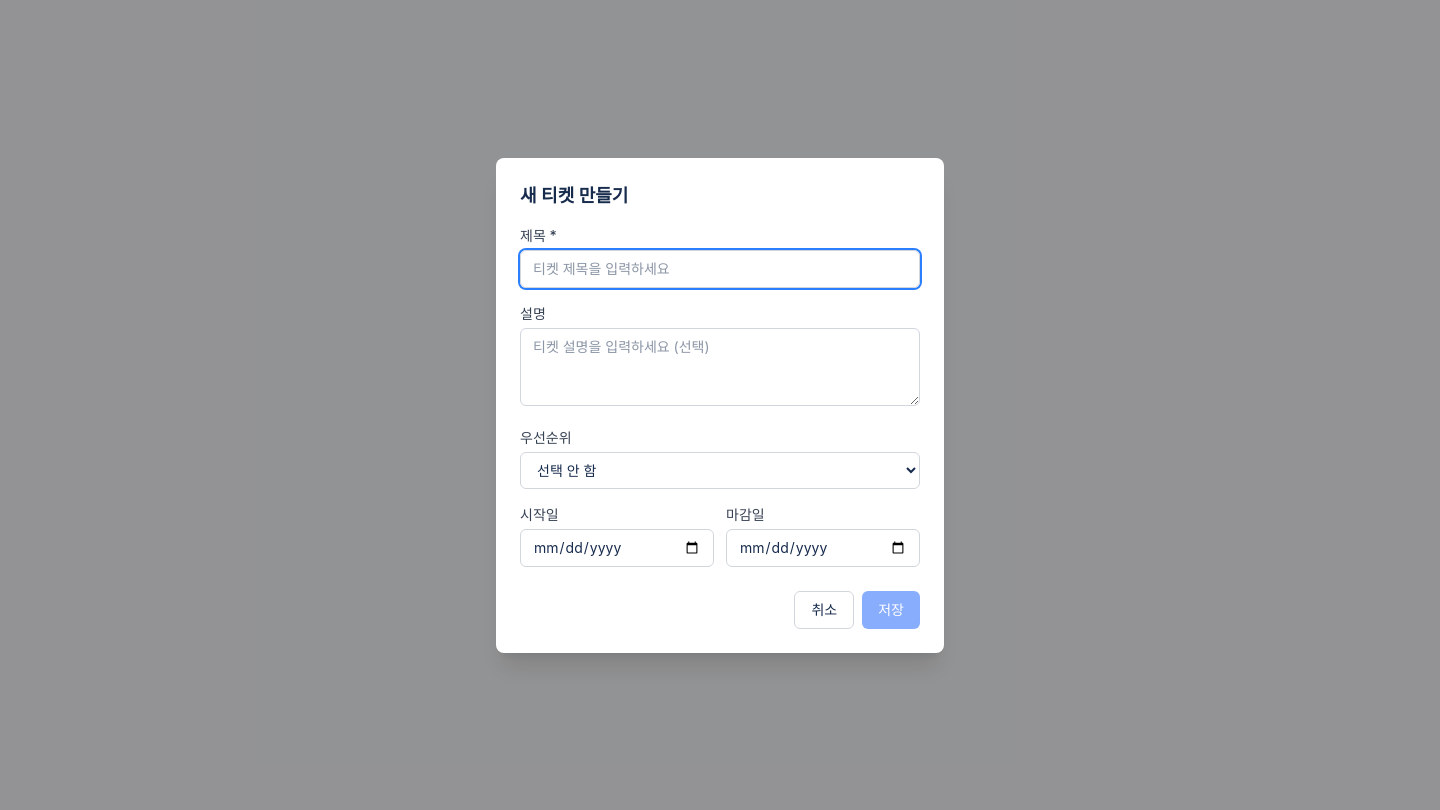
Scenario: CreateModal › TC-COMP-043: API 실패 → 에러 메시지 표시, 모달 유지
Step 1. Type "실패 테스트" into the field labelled "제목 *" → (720, 268), box [520,250,920,288]
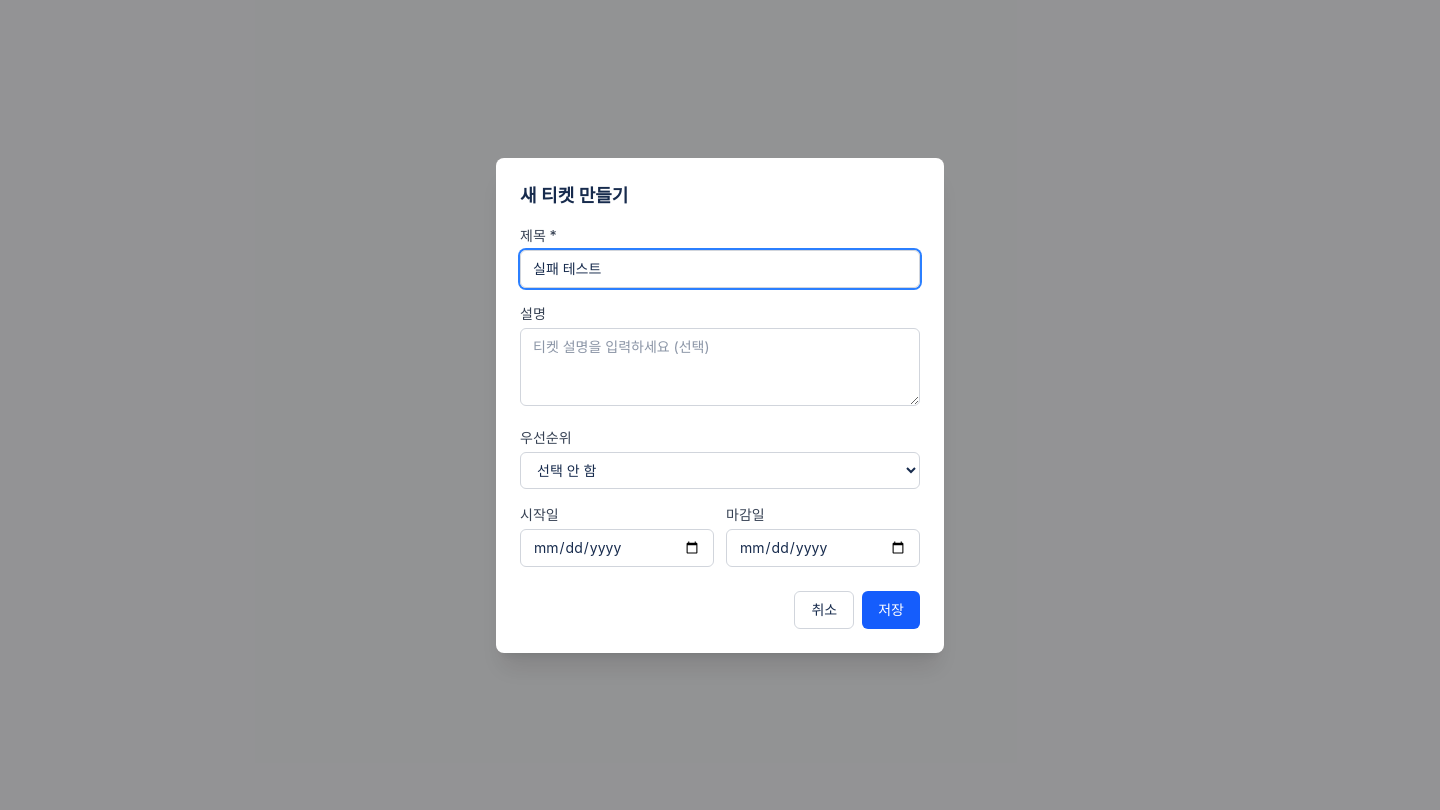
Step 2. Click the button "저장" → (891, 610), box [862,590,920,628]
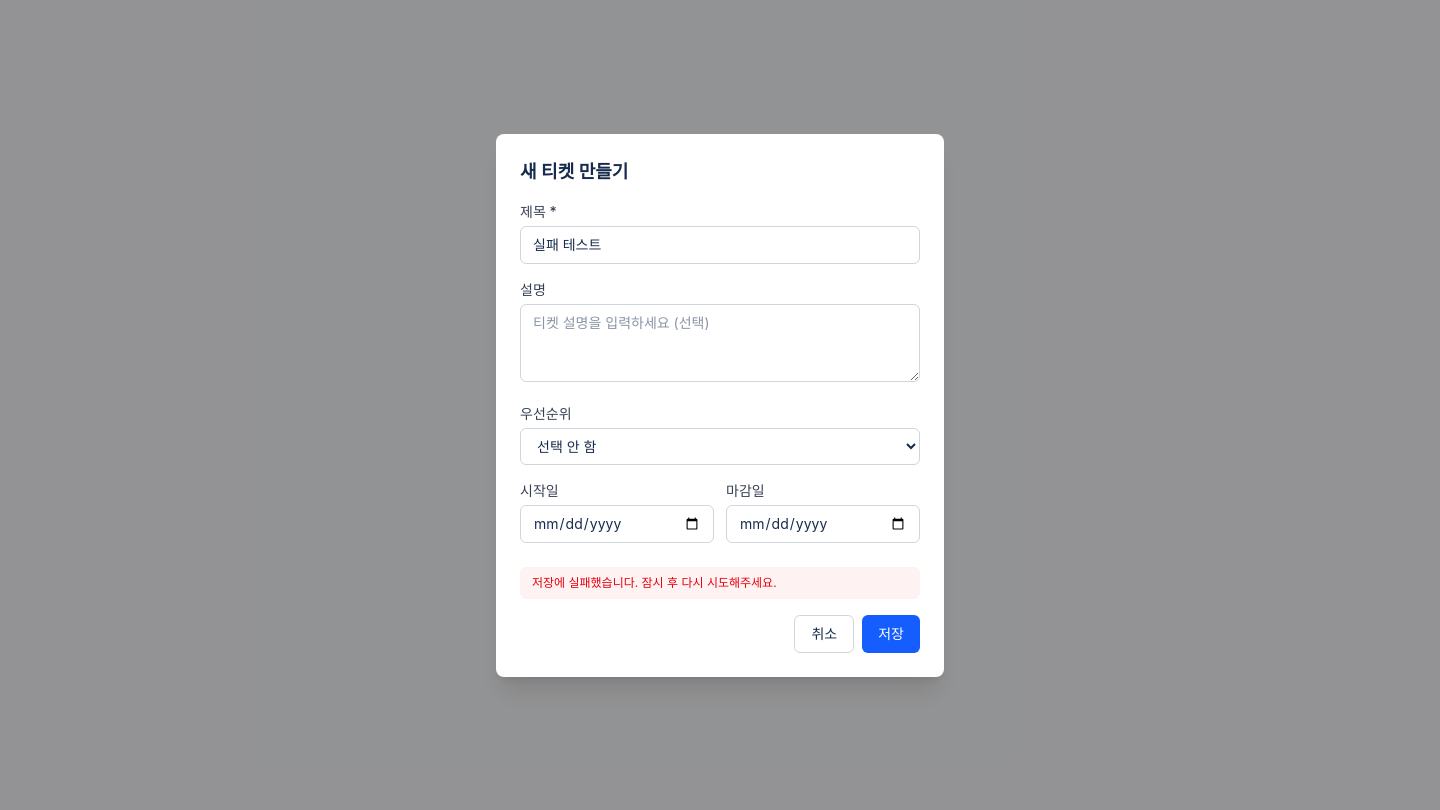
Result: the message "저장에 실패했습니다. 잠시 후 다시 시도해주세요." is shown at [520,566,920,598]
